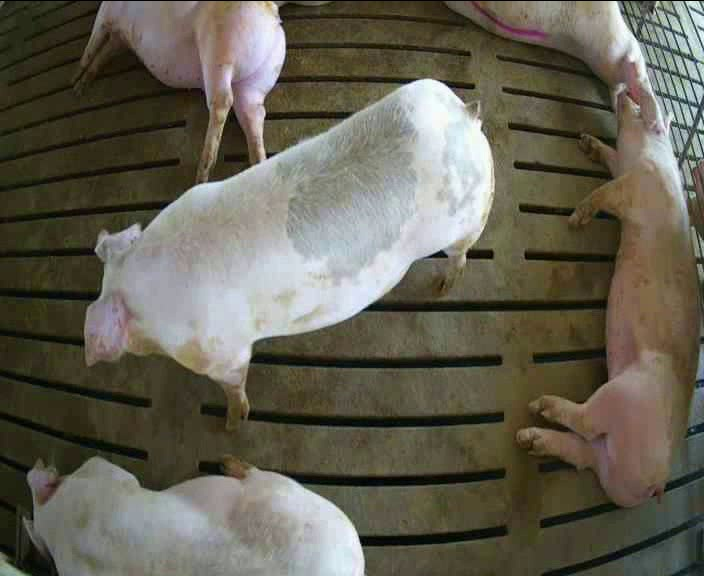pig: (86, 81, 493, 429), (516, 84, 697, 506), (23, 457, 364, 574), (74, 2, 285, 183), (447, 2, 653, 110)
